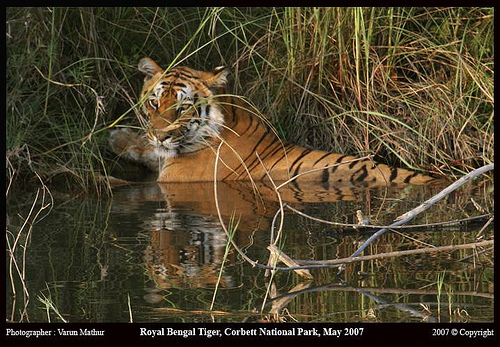Tigre: (128, 57, 227, 169)
